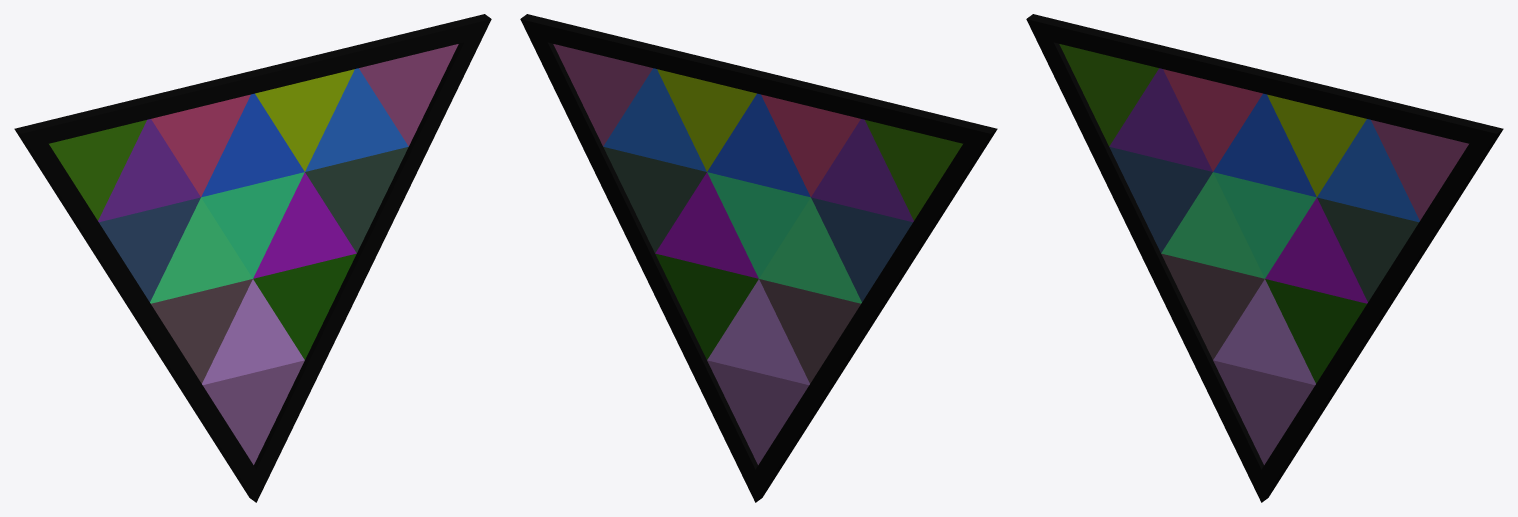
Rendered from SM_Portal.fbx.
3 views of the same model, side by side, from view 1: azimuth 30°, elevation 25°; view 2: azimuth 150°, elevation 25°; view 3: azimuth 330°, elevation 25° (orthographic).
Visible parts, largest first — view 1: Circle; view 2: Circle; view 3: Circle.
Boxes of the visible parts, x1=… form: Circle: x1=14, y1=14, x2=491, y2=502; Circle: x1=520, y1=14, x2=997, y2=502; Circle: x1=1026, y1=14, x2=1503, y2=502.
Size of the model in its own units: 1.96 by 1.7 by 0.05.
